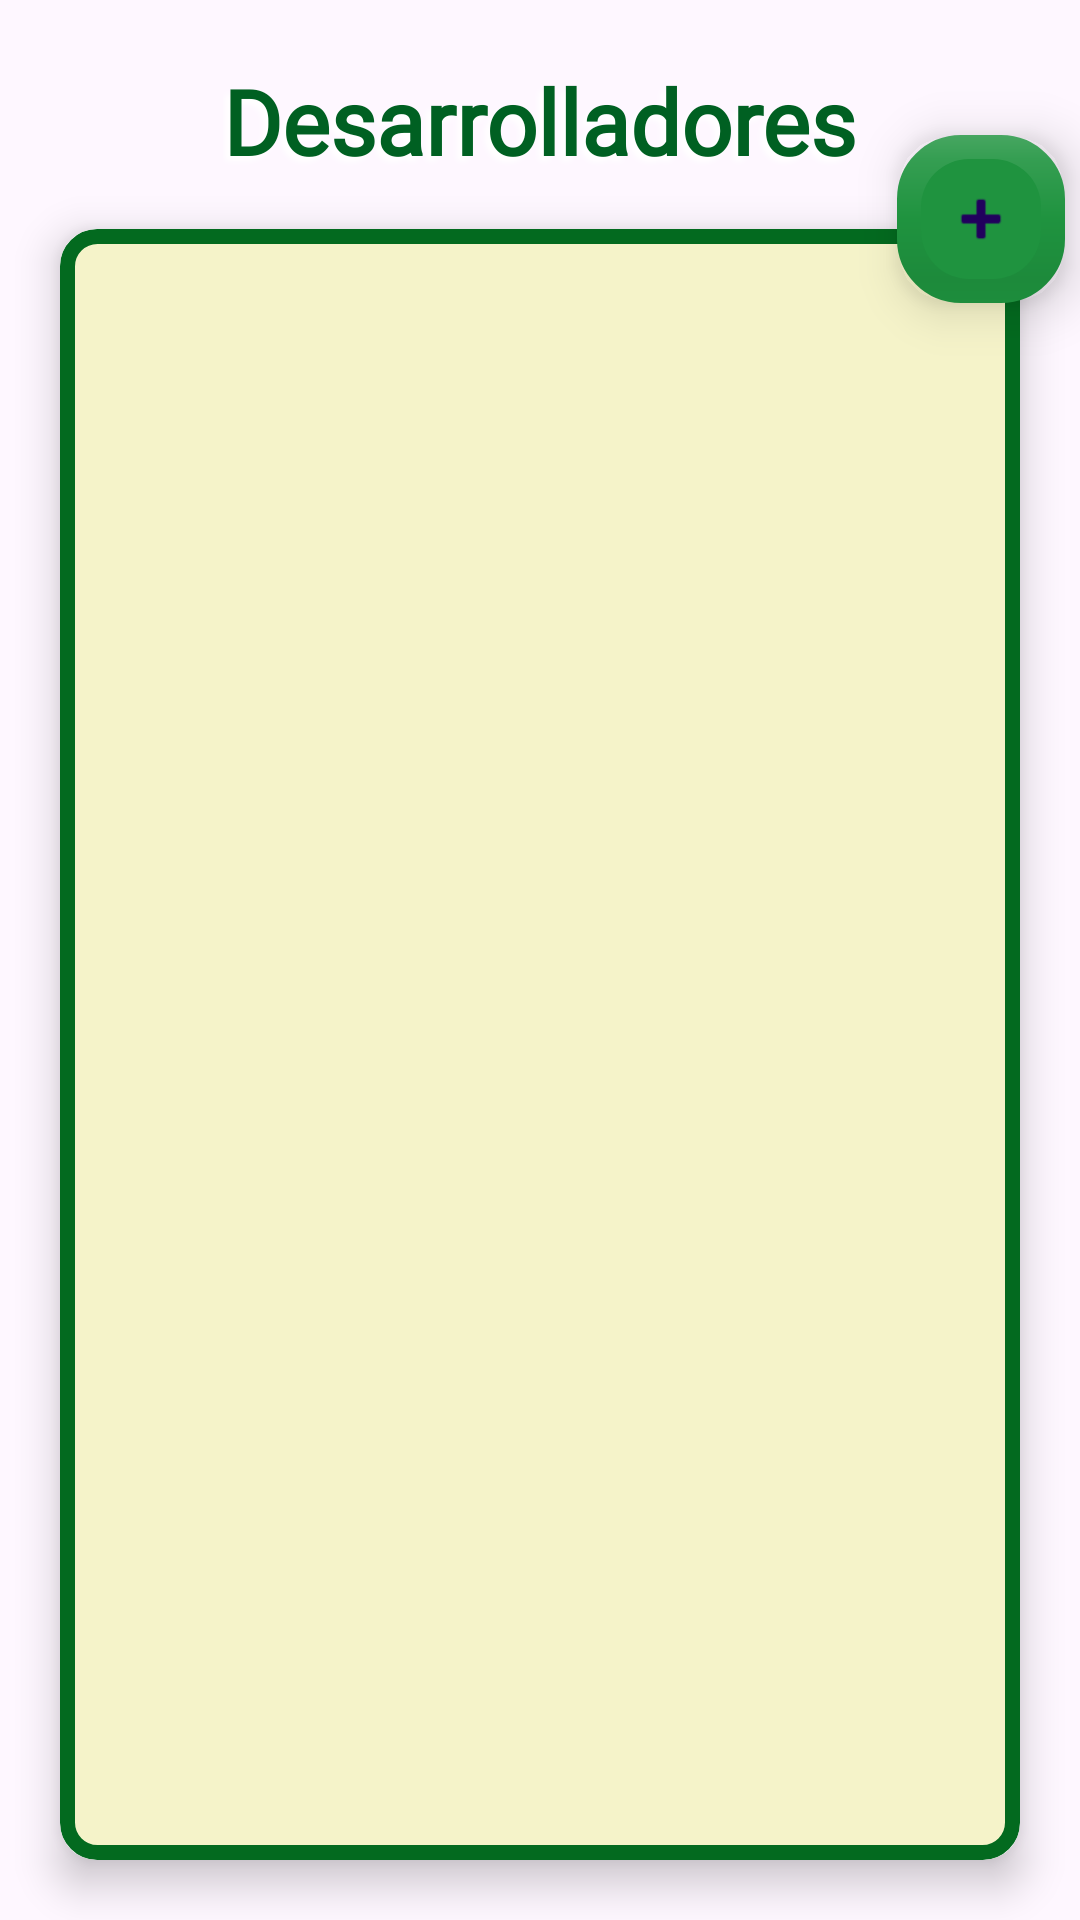

Icons on this 1080px×1920px Android screen, each with the point to tap as (x,y):
add: (981,219)
